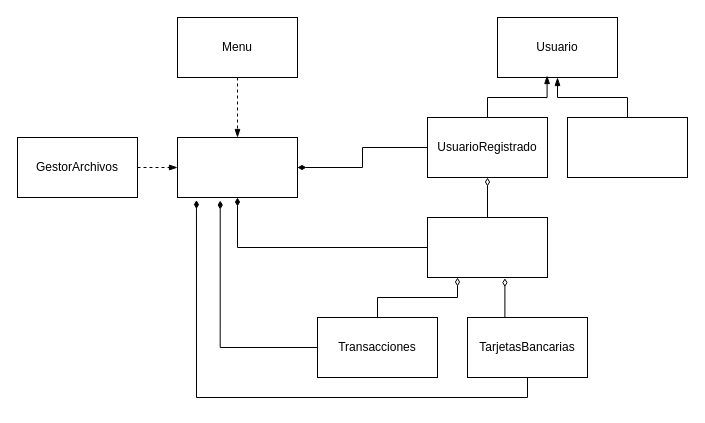
This 705x423 diagram has some shape labels left out. The centre of each missing label's shape, as x and y in pixels:
"Banco" belongs at (x=237, y=167).
"CuentaBancaria" belongs at (x=487, y=247).
"UsuarioNoRegistrado" belongs at (x=627, y=147).
